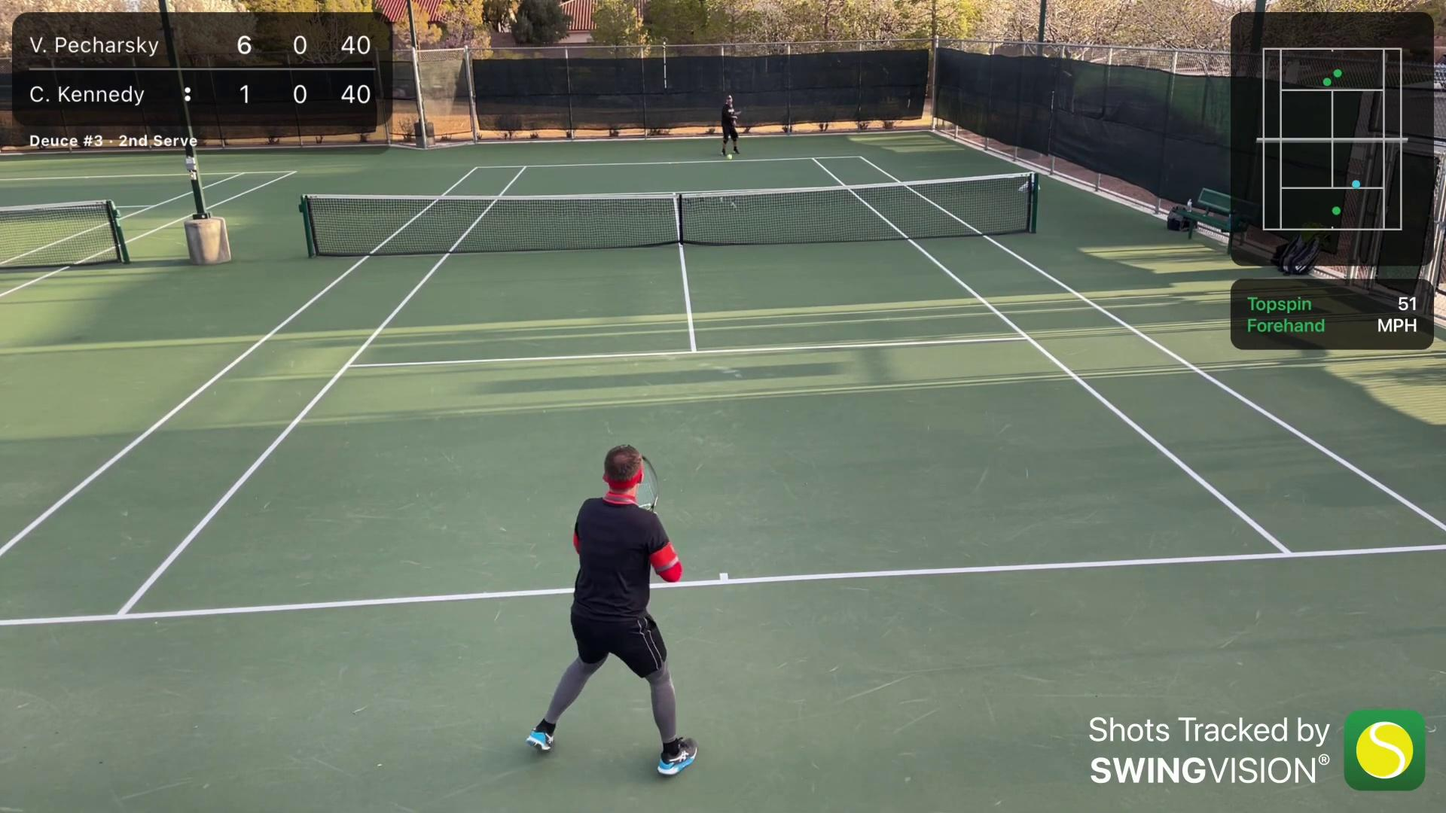ball: (728, 155, 733, 161)
